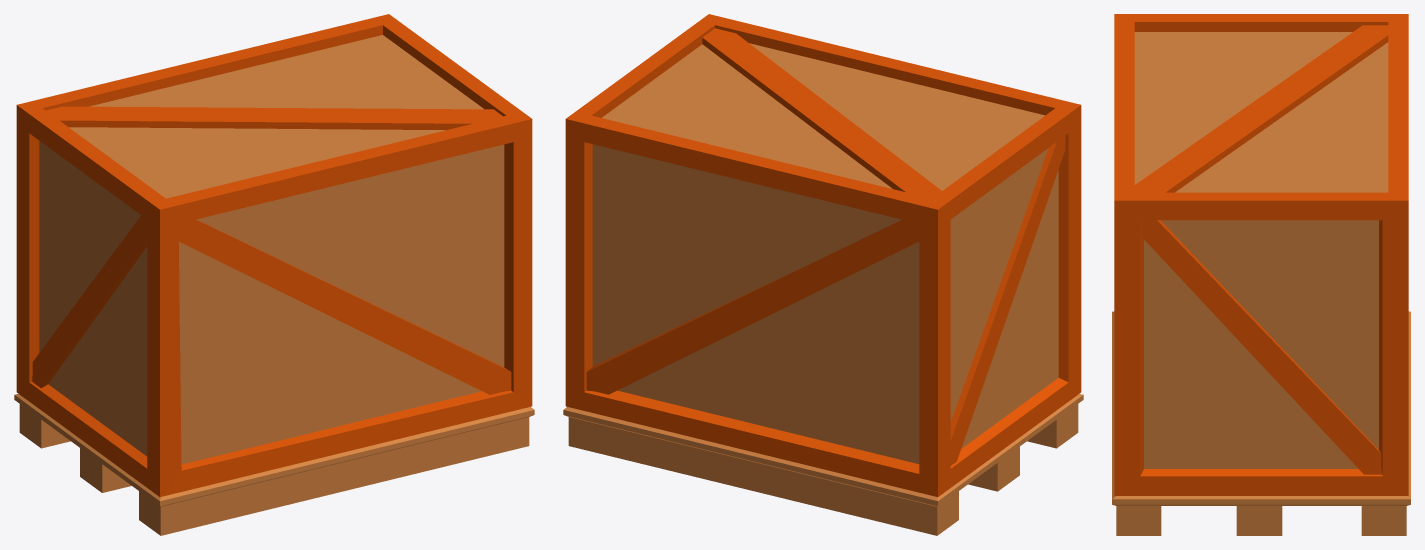
Rendered from Crate.fbx.
3 views of the same model, side by side, from view 1: azimuth 30°, elevation 25°; view 2: azimuth 150°, elevation 25°; view 3: azimuth 270°, elevation 25° (orthographic). The views are drawn at different scales.
Visible parts, largest first — view 1: Crate1; view 2: Crate1; view 3: Crate1.
Boxes of the visible parts, x1,y1,x2,y2 form: Crate1: (14,14,534,535); Crate1: (563,14,1083,535); Crate1: (1112,14,1410,535).
Size of the model in its own units: 151 by 126 by 102.
